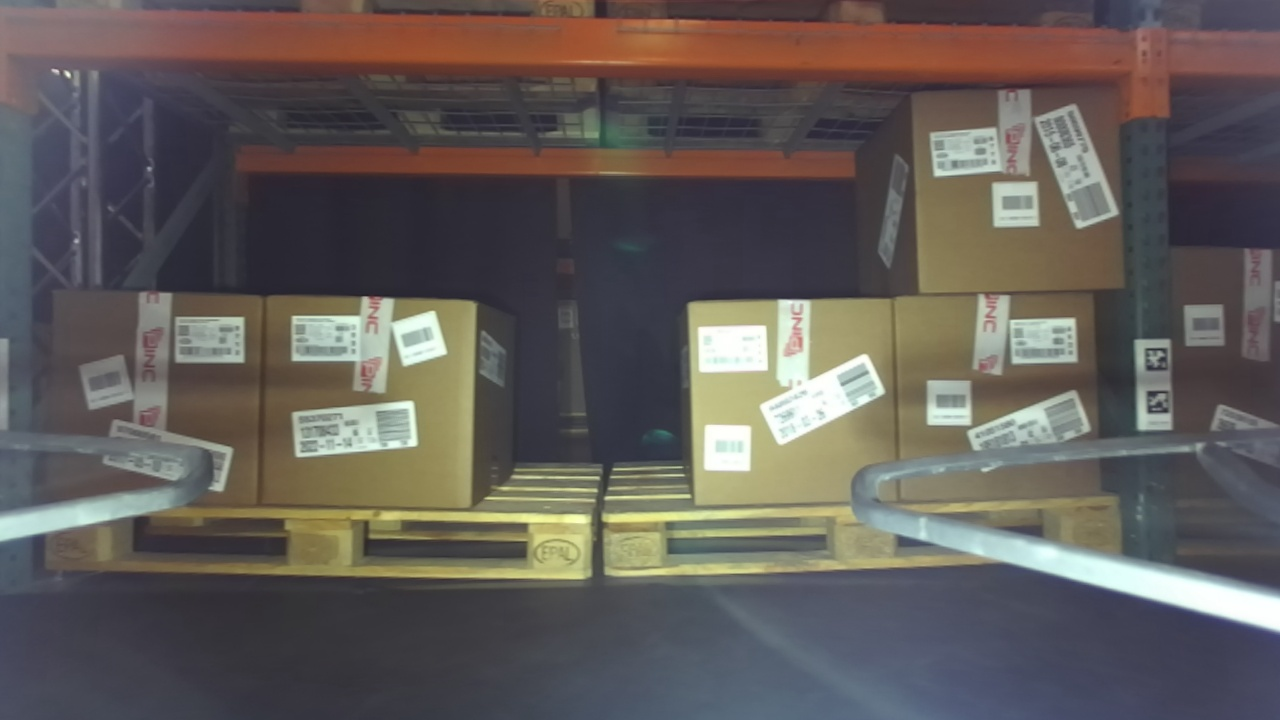box: (665, 284, 927, 516), (40, 268, 283, 514), (886, 79, 1133, 311), (247, 289, 491, 523), (875, 284, 1122, 515)
